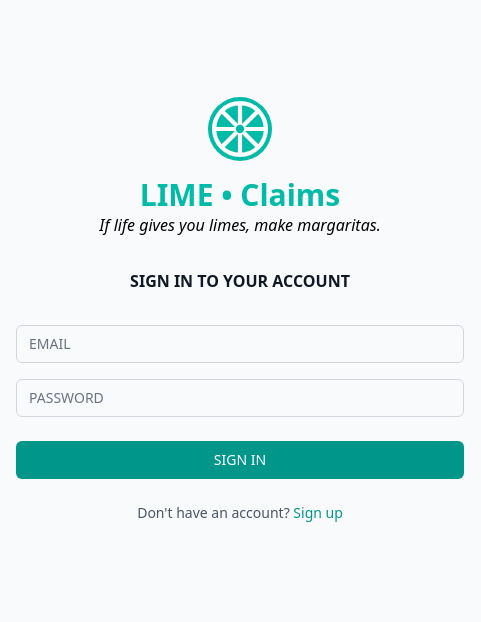
Test: LoginPage › should switch to registration form when clicking sign up
Click the button "Sign up".
click(318, 513)  # box [293,503,343,523]
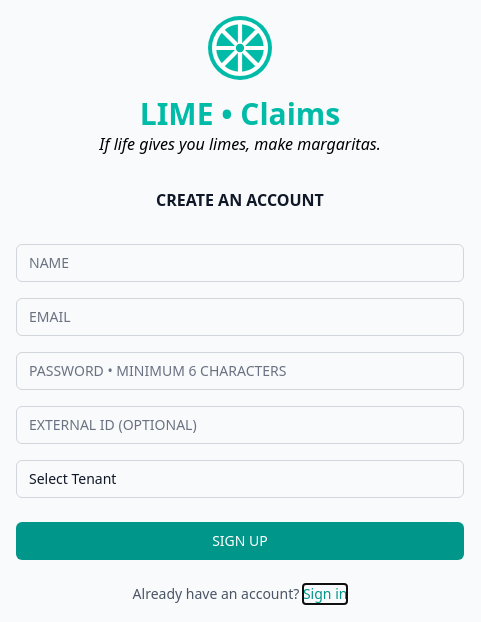
Expected: the field with placeholder "NAME" is shown, [16,244,464,282]
Expected: the field with placeholder "EXTERNAL ID (OPTIONAL)" is shown, [16,406,464,444]
Expected: the button "Sign up" is shown, [16,522,464,560]
